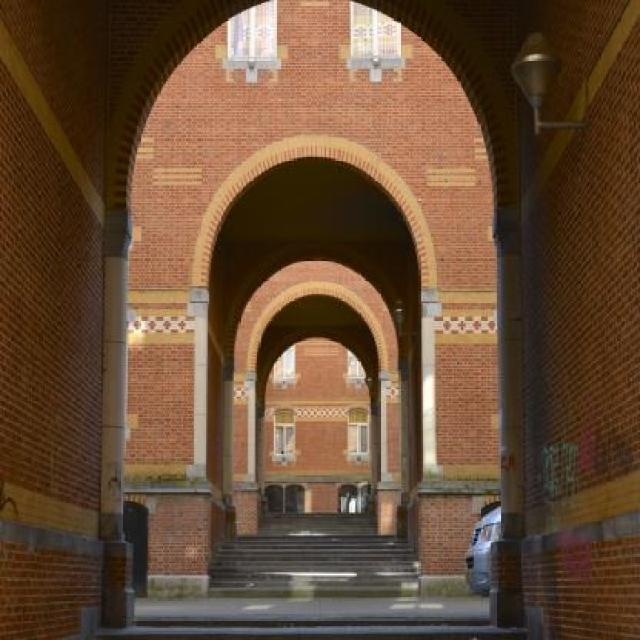stair: (212, 511, 417, 591)
